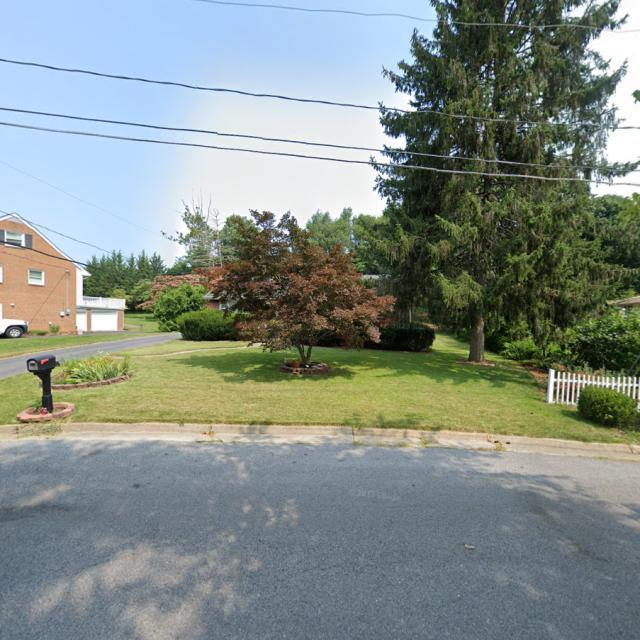House: (0, 212, 128, 333), (204, 274, 412, 342)
